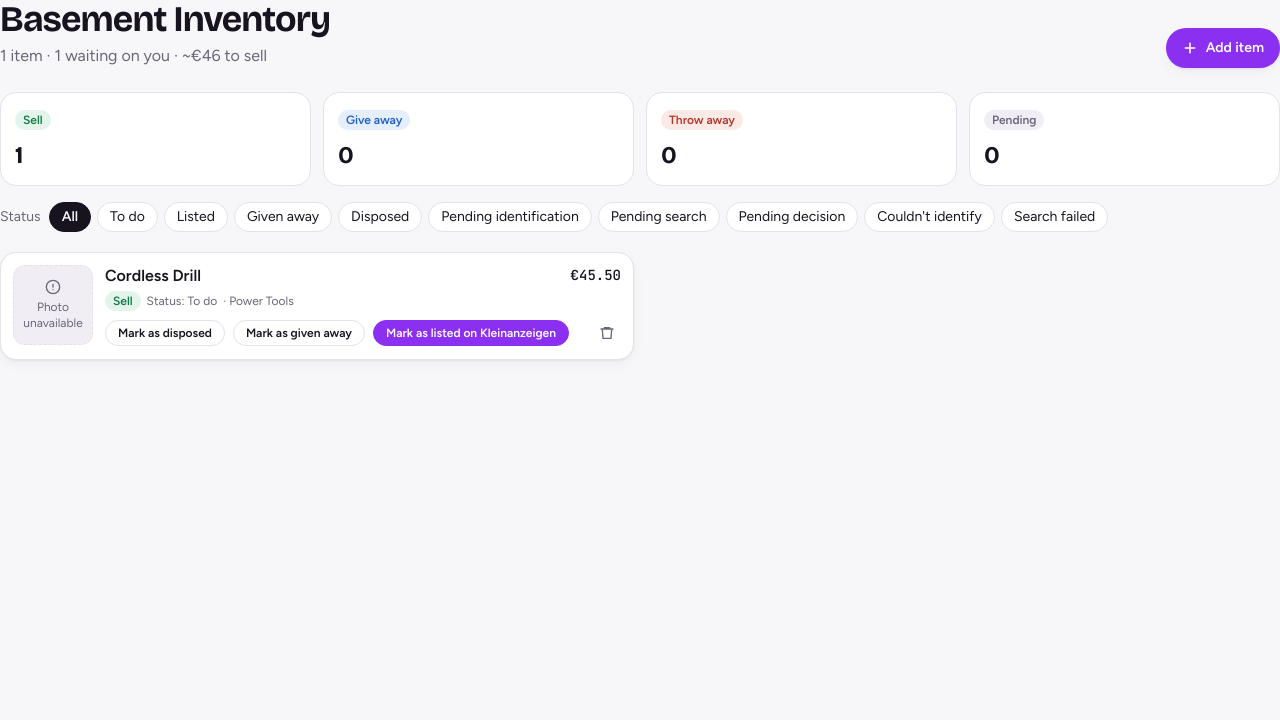
Test: InventoryPage › deletes an item and removes it from the list after confirming
This screenshot has width=1280, height=720.
Expected: the link "Cordless Drill" is shown, [105, 266, 201, 285]
Click the button named "delete" at (607, 333), box [593, 319, 621, 347]
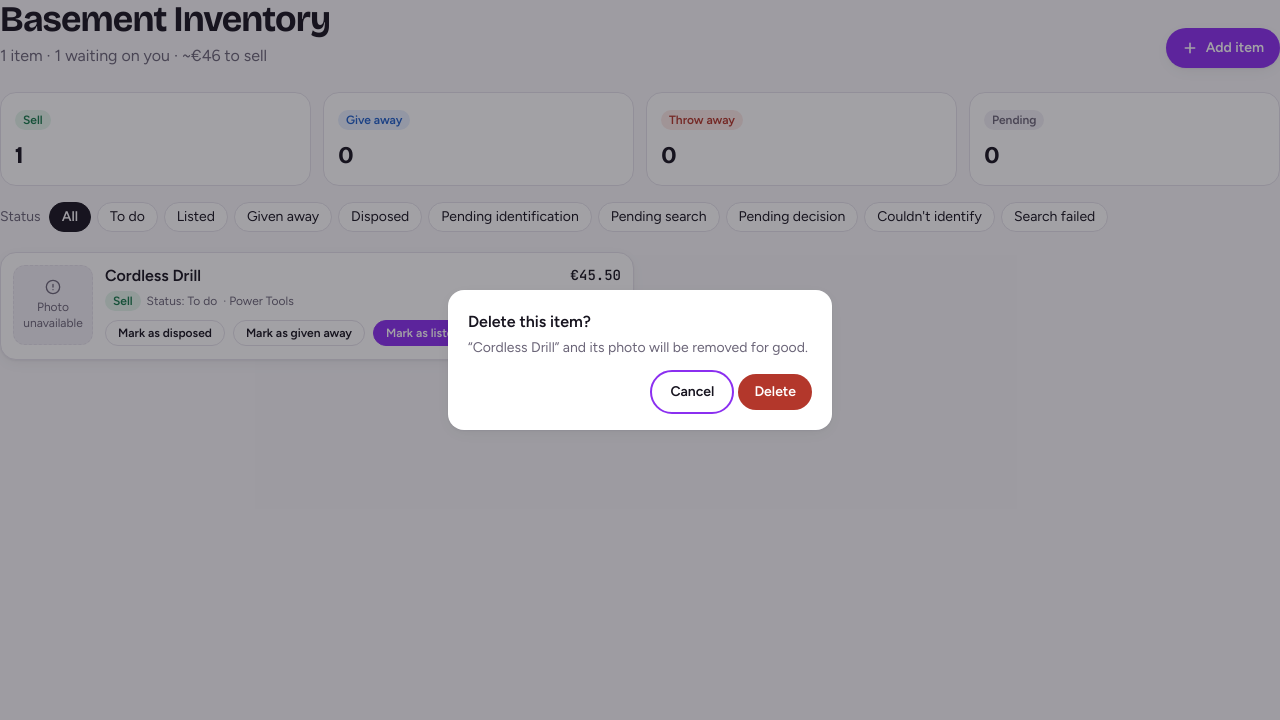
Click the button "Delete" at (775, 392), box [738, 374, 812, 410]
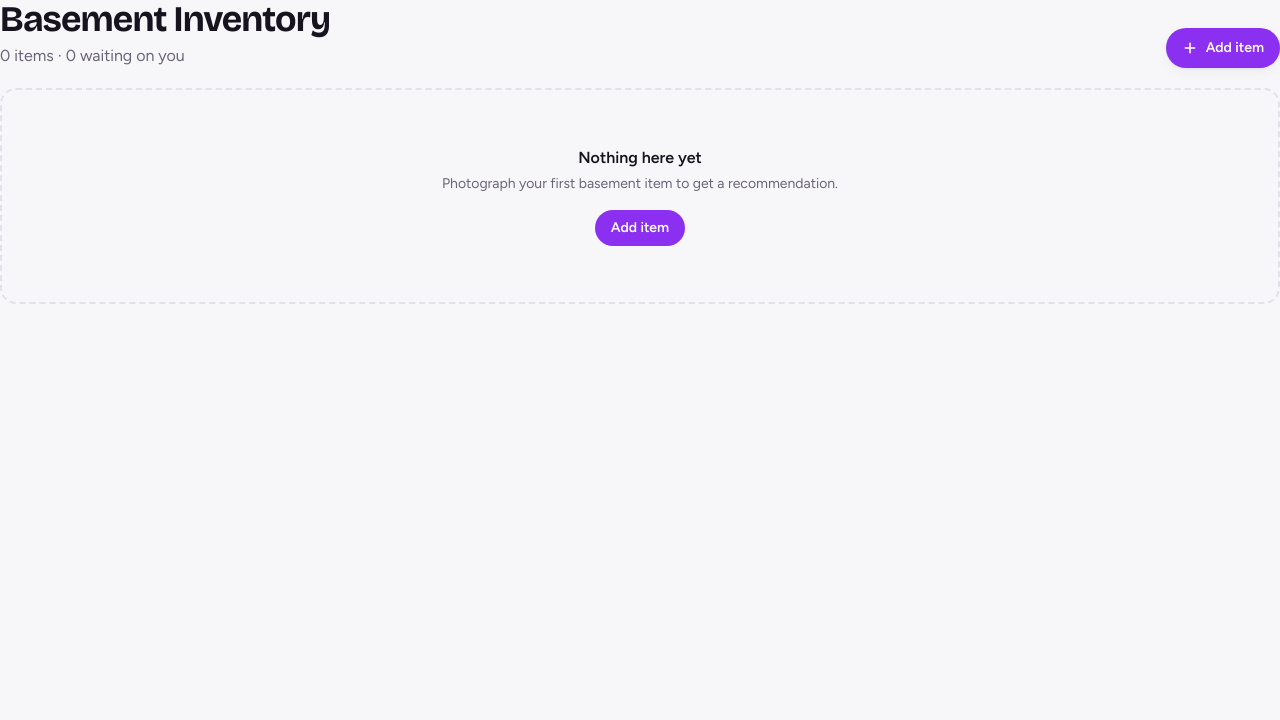
Result: the link "Cordless Drill" is gone
